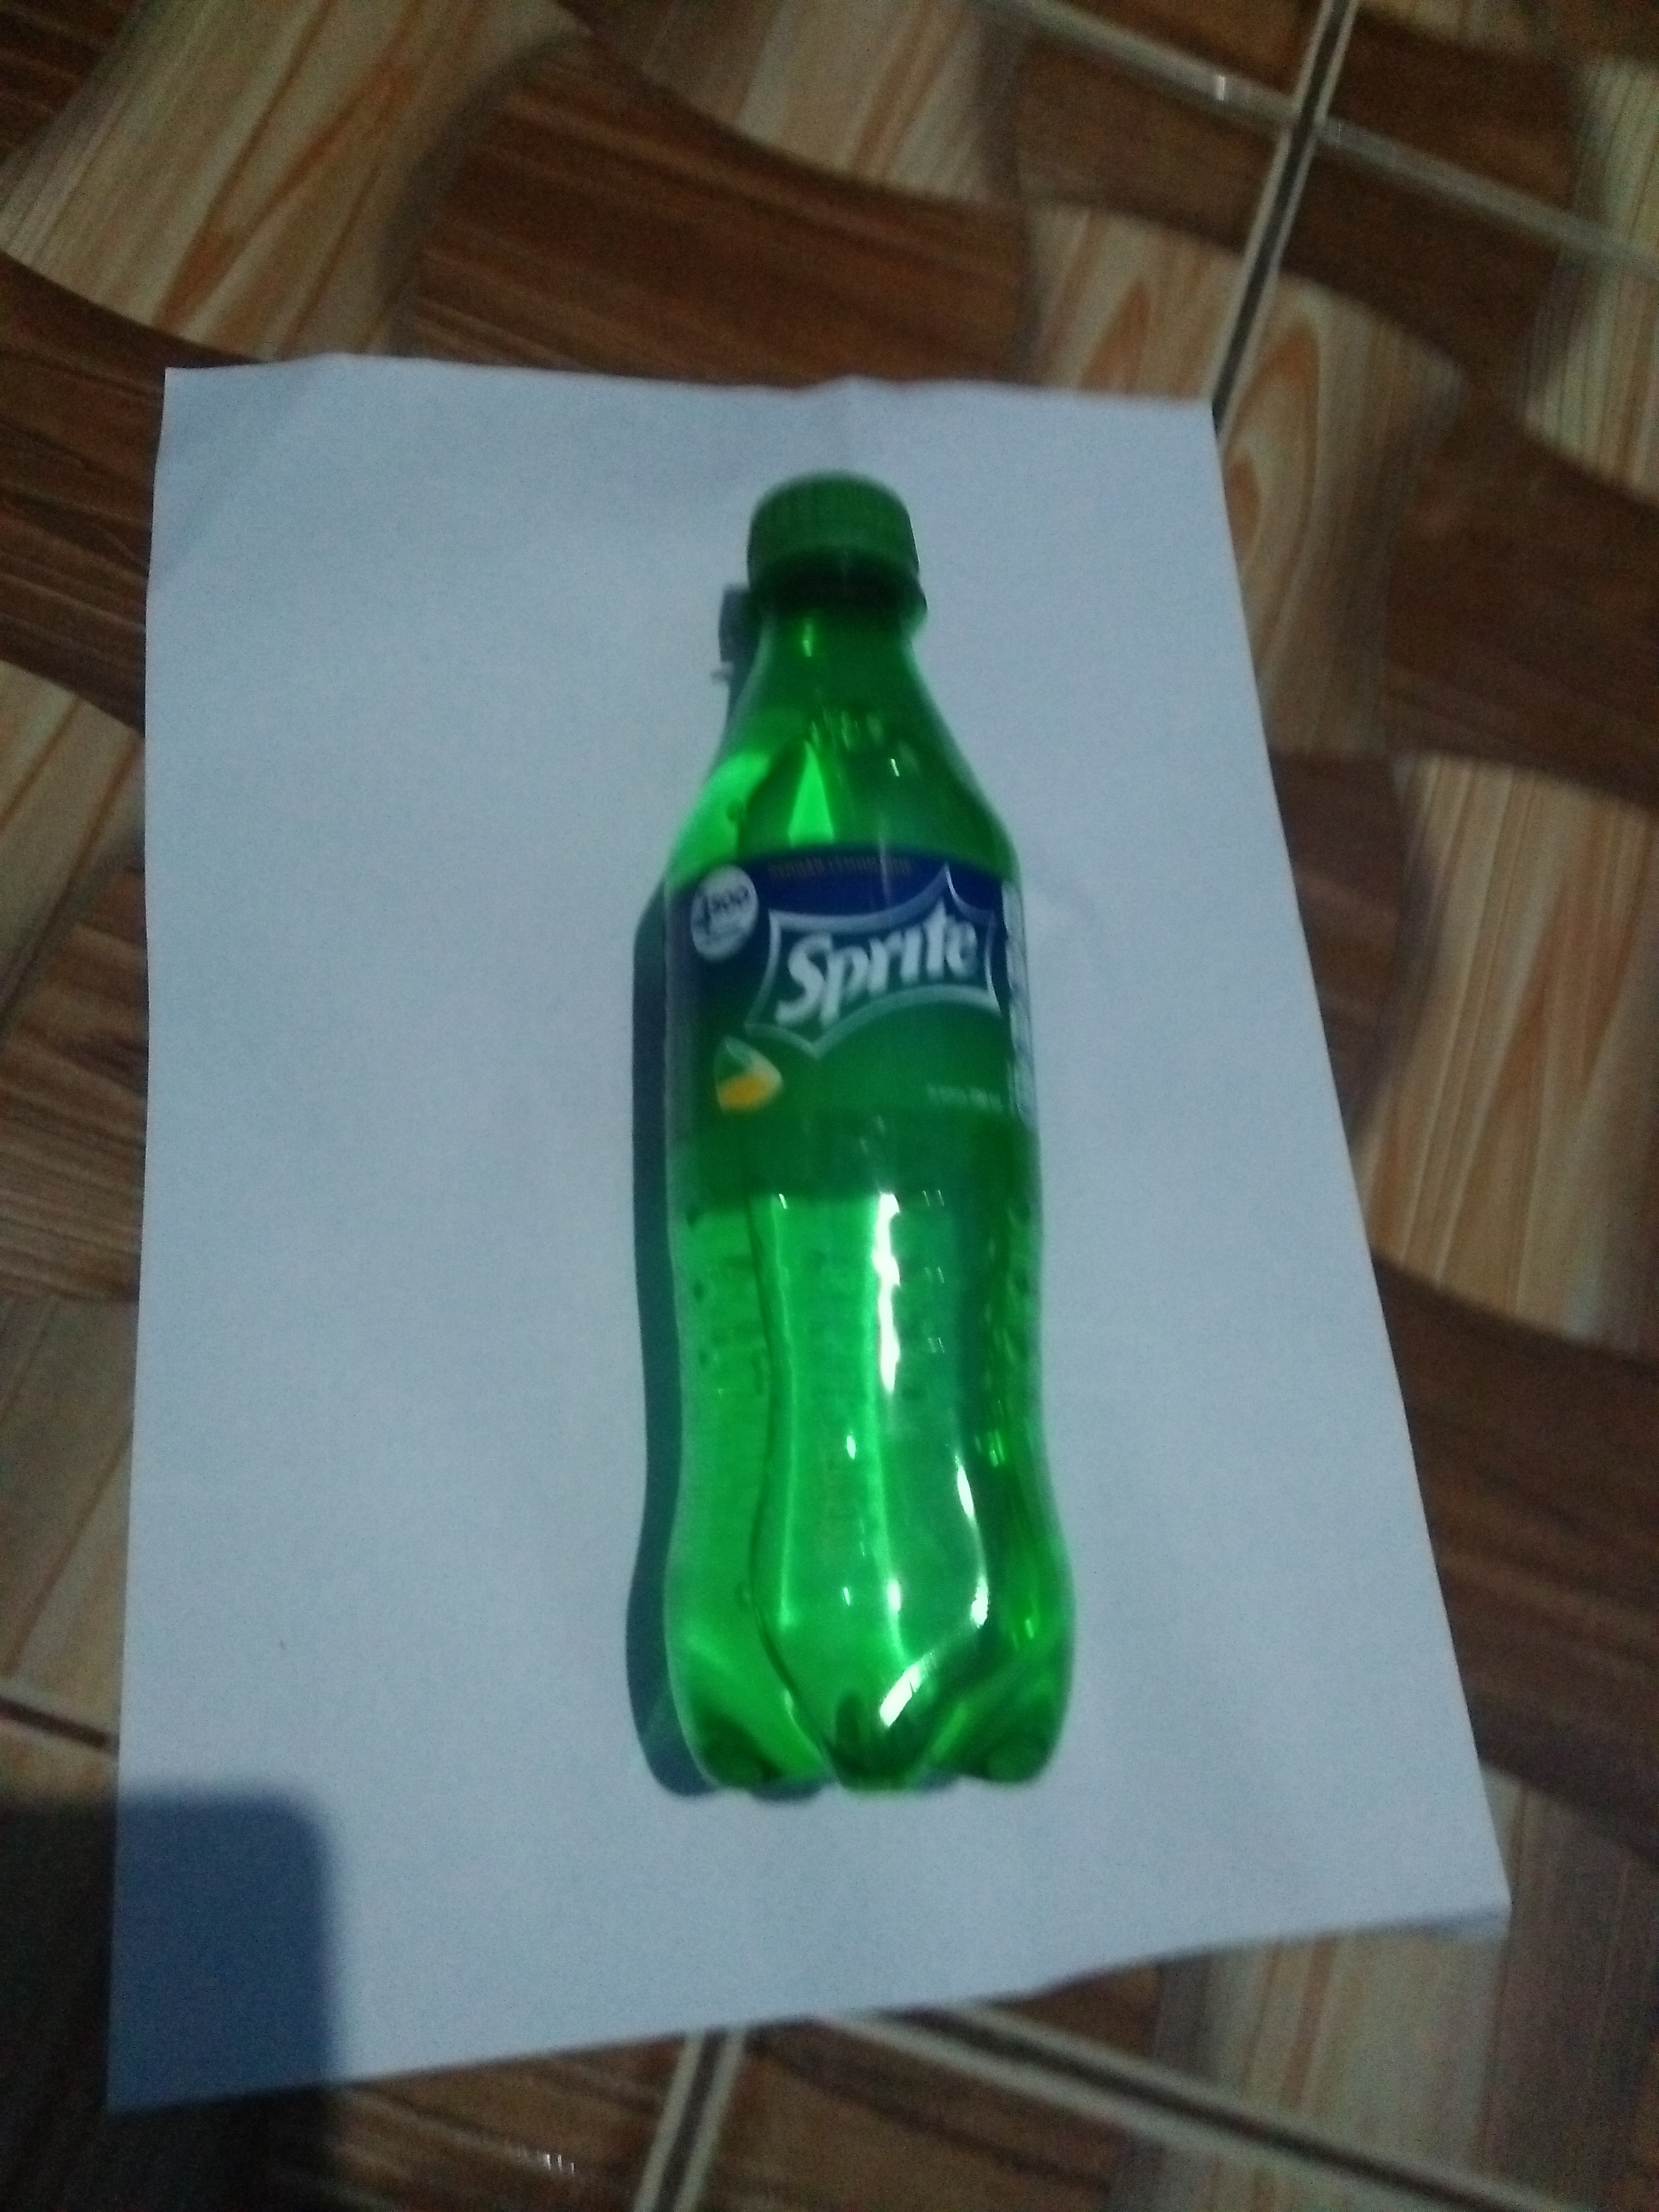Sprite: (634, 451, 1134, 1811)
